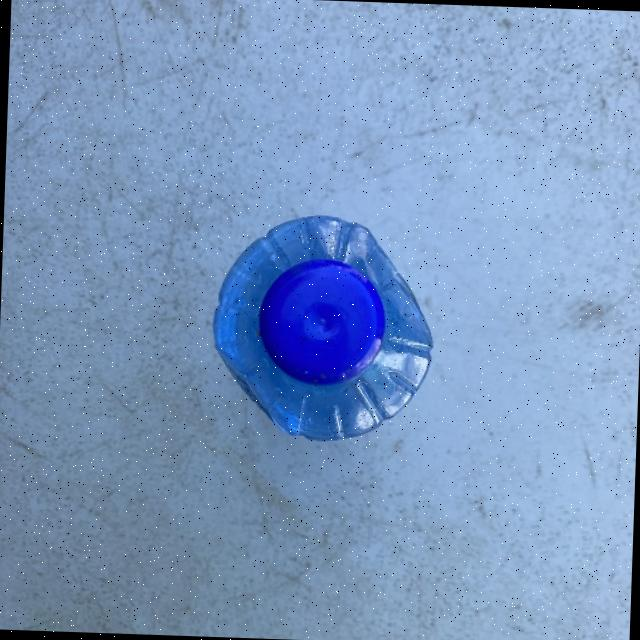plastic: (208, 208, 438, 444)
